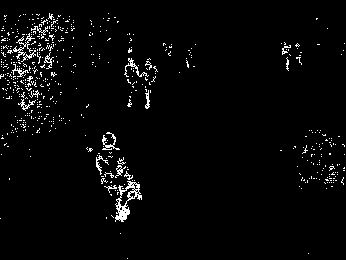person: (93, 132, 140, 224), (141, 57, 159, 108), (123, 57, 138, 109)
